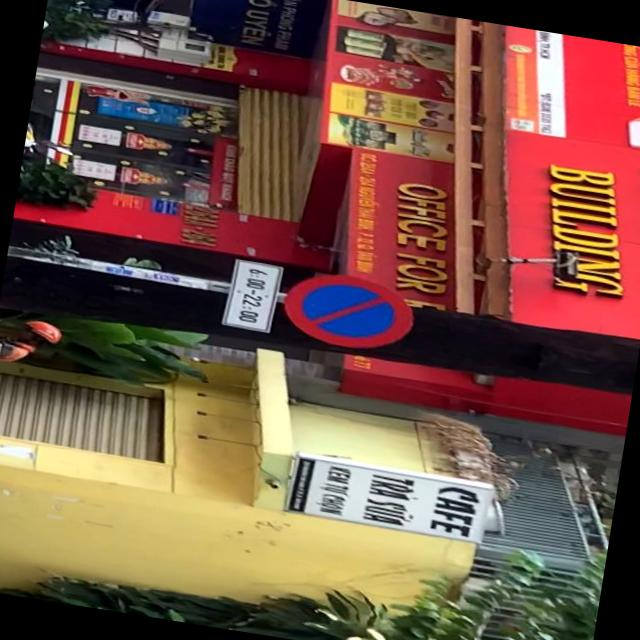P-131a: (278, 269, 416, 357)
